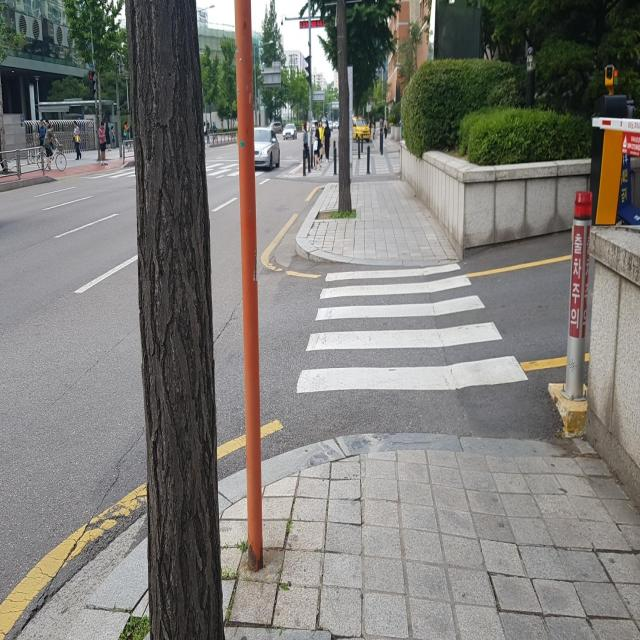횡단보도: (294, 258, 530, 397), (85, 163, 289, 180)
